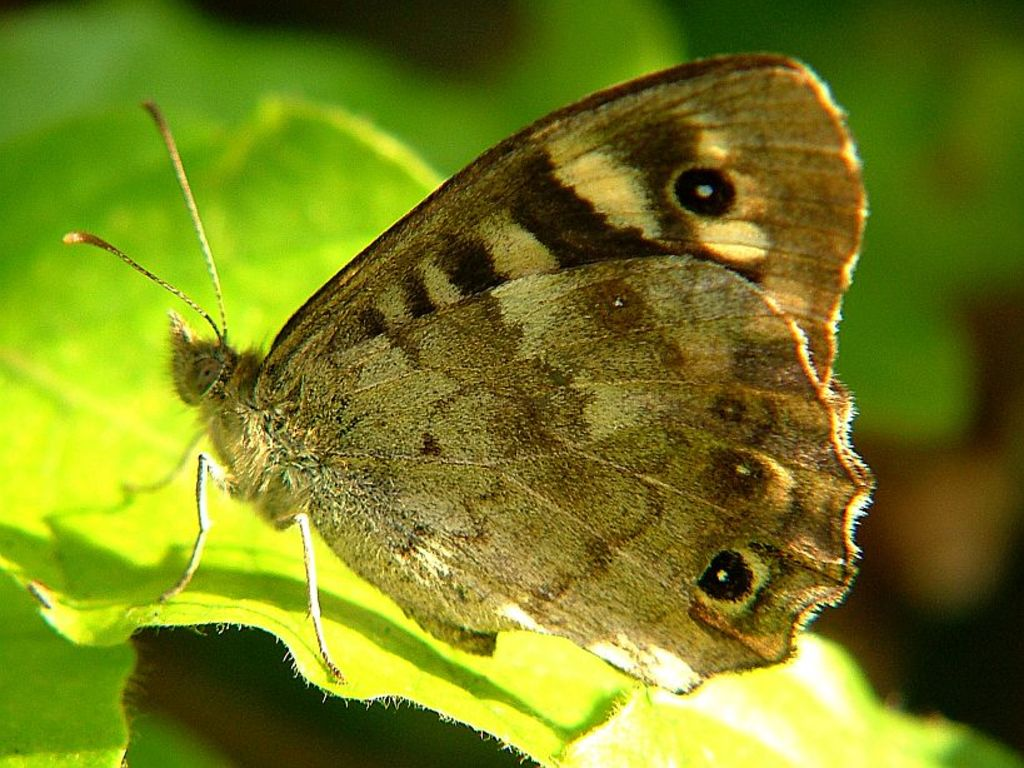Butterfly: (67, 59, 890, 685)
